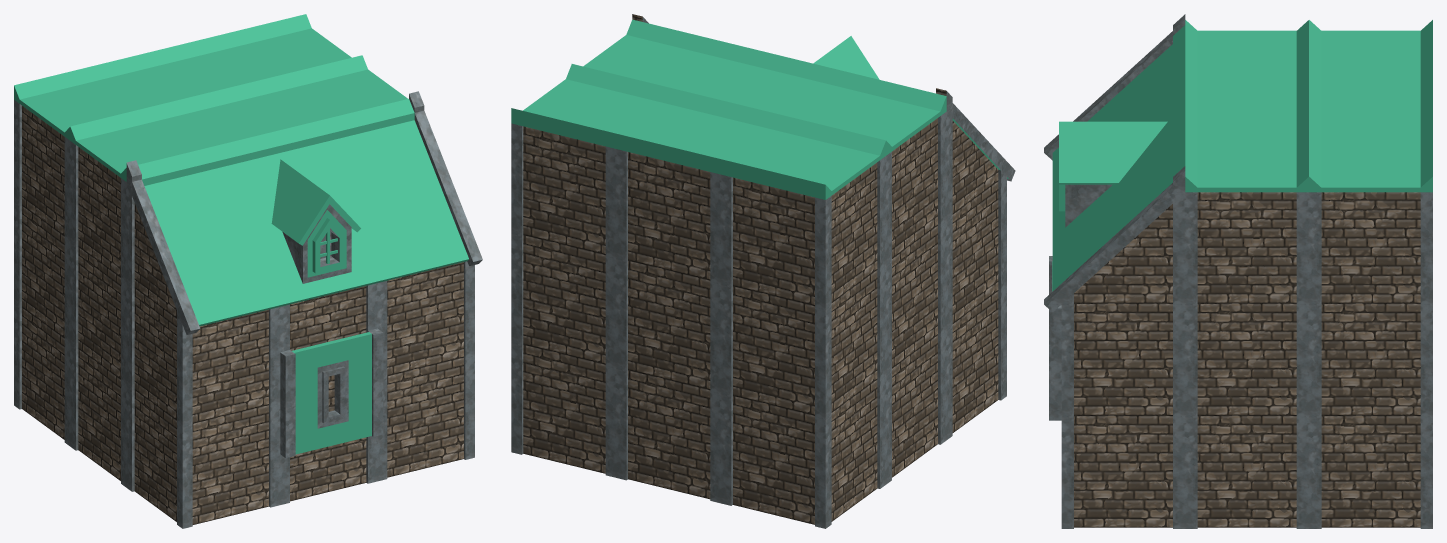
Rendered from BlueHouse.obj.
3 views of the same model, side by side, from view 1: azimuth 30°, elevation 25°; view 2: azimuth 150°, elevation 25°; view 3: azimuth 270°, elevation 25° (orthographic). The views are drawn at different scales.
Visible parts, largest first — view 1: mergedBlocks; view 2: mergedBlocks; view 3: mergedBlocks.
Part boxes in pixels (box(x1,y1,x2,y2)): mergedBlocks: box(14, 14, 482, 528); mergedBlocks: box(511, 14, 1015, 528); mergedBlocks: box(1044, 14, 1432, 528).
Size of the model in its own units: 3 by 3.19 by 3.14.
6 materials, 2 textured.
